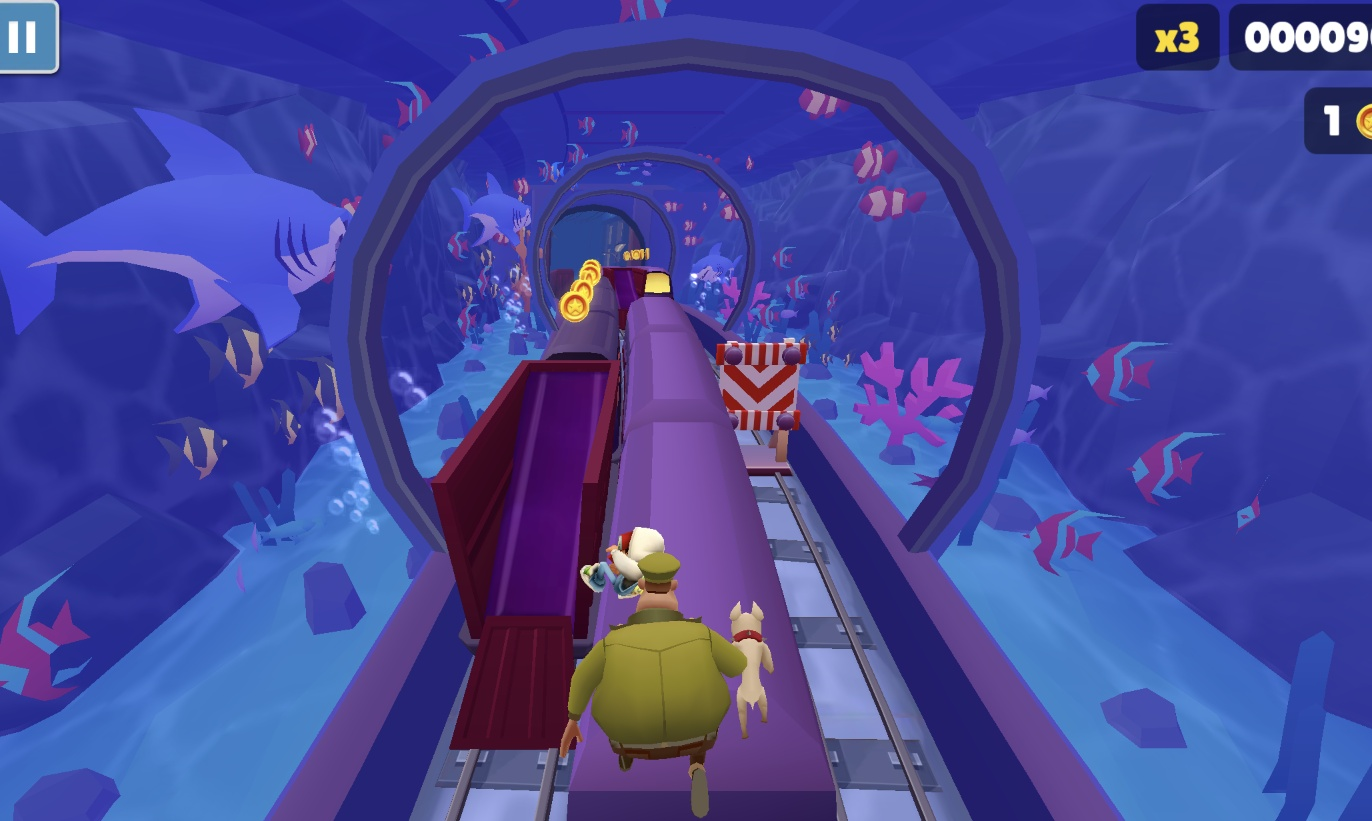overhead_barrier: (717, 343, 810, 479)
train: (552, 288, 831, 821), (432, 355, 620, 751), (602, 267, 643, 368), (644, 267, 672, 301)
